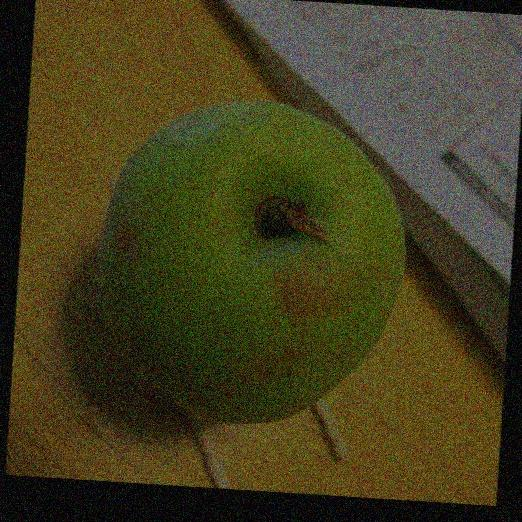green apple: (88, 96, 412, 428)
